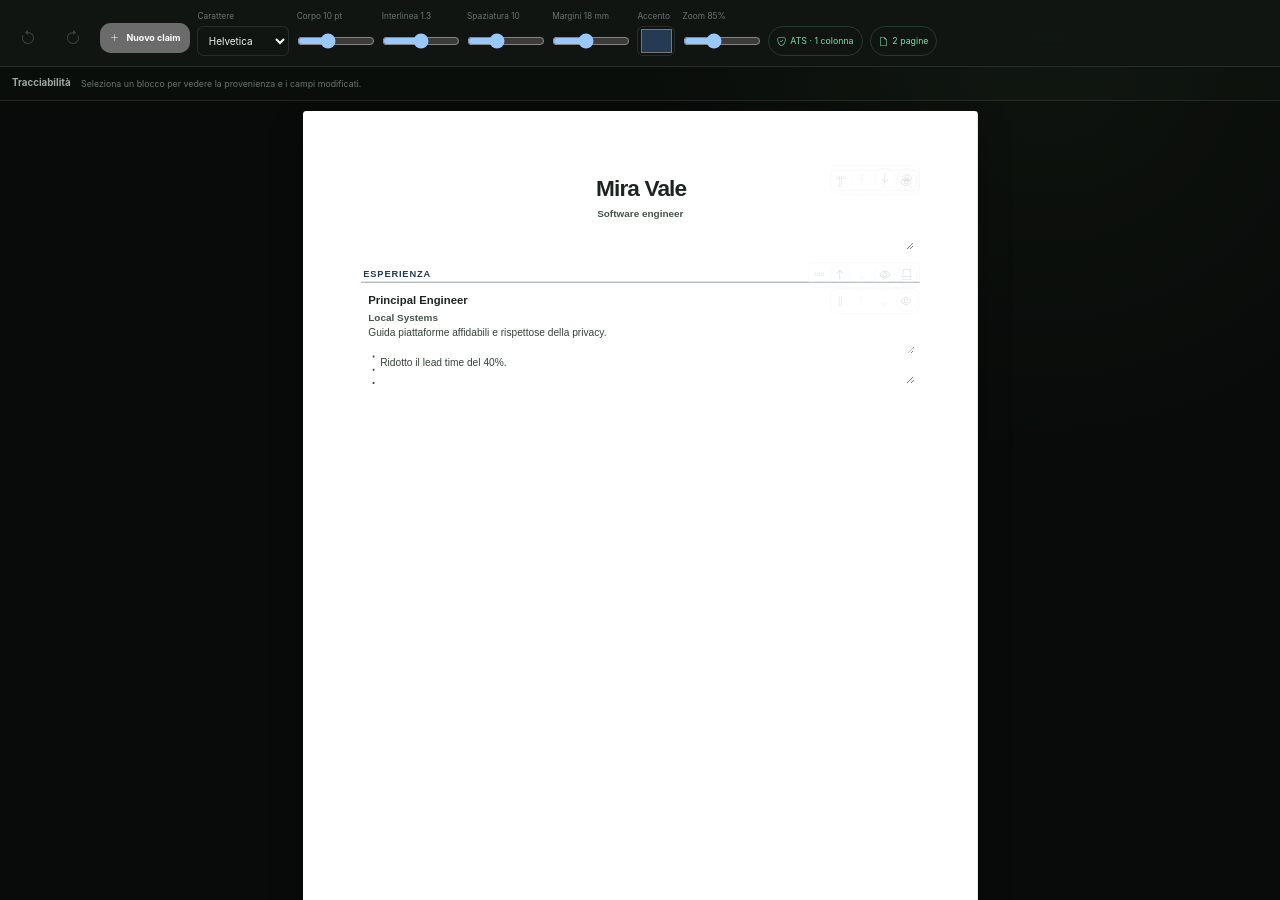
Test: ResumeCanvas › creates, warns about and promotes a manual claim
The image size is (1280, 900).
Click the button "Nuovo claim". click: [145, 38]
box: [100, 23, 190, 53]
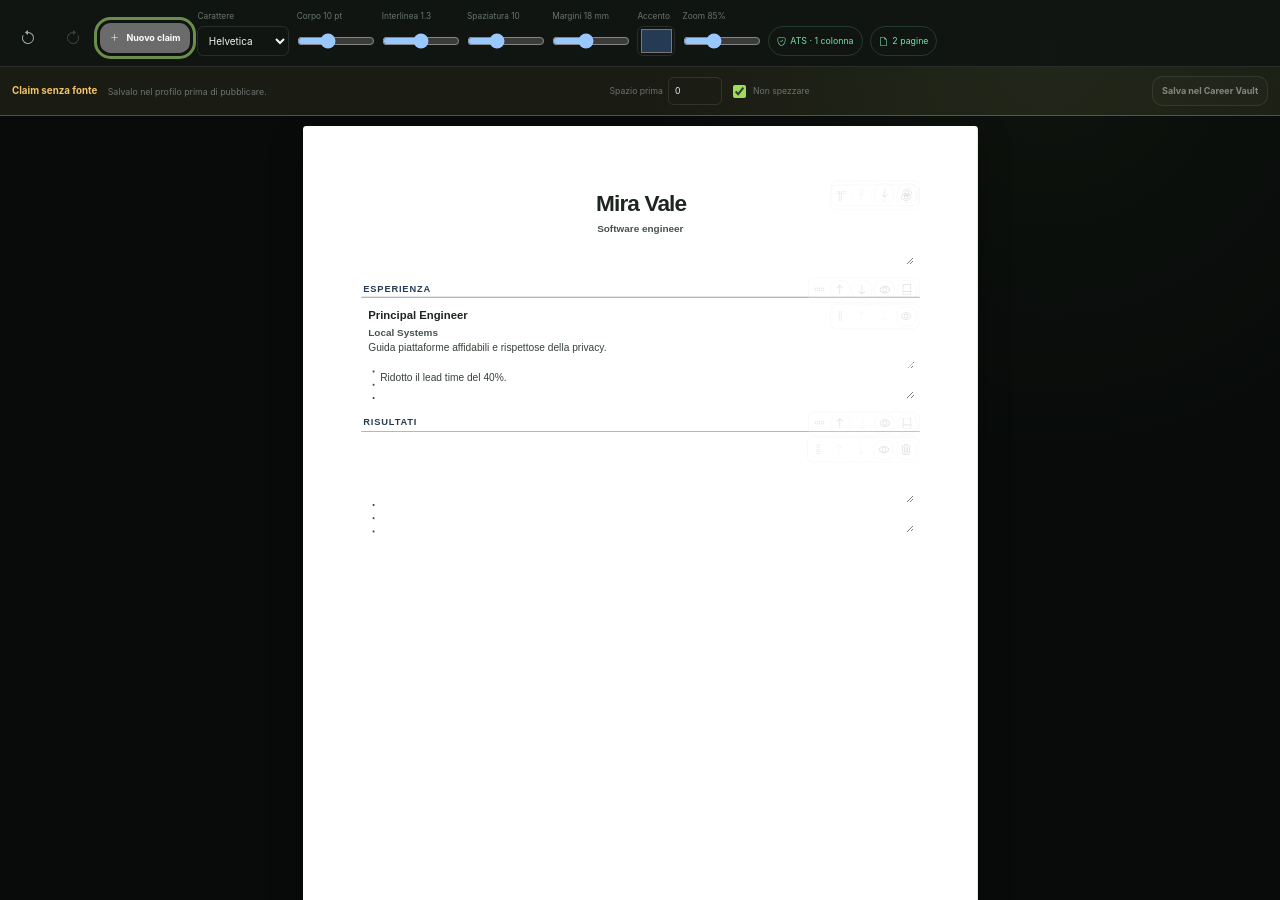
Now the text "Claim senza fonte" is shown, box [12, 84, 97, 98]
Now the button "Salva nel Career Vault" is disabled, box [1152, 76, 1268, 106]
Type "Ridotto il lavoro manuale del 30%" into the 3rd field named "Titolo blocco 1". click: [640, 450]
box: [365, 441, 914, 459]
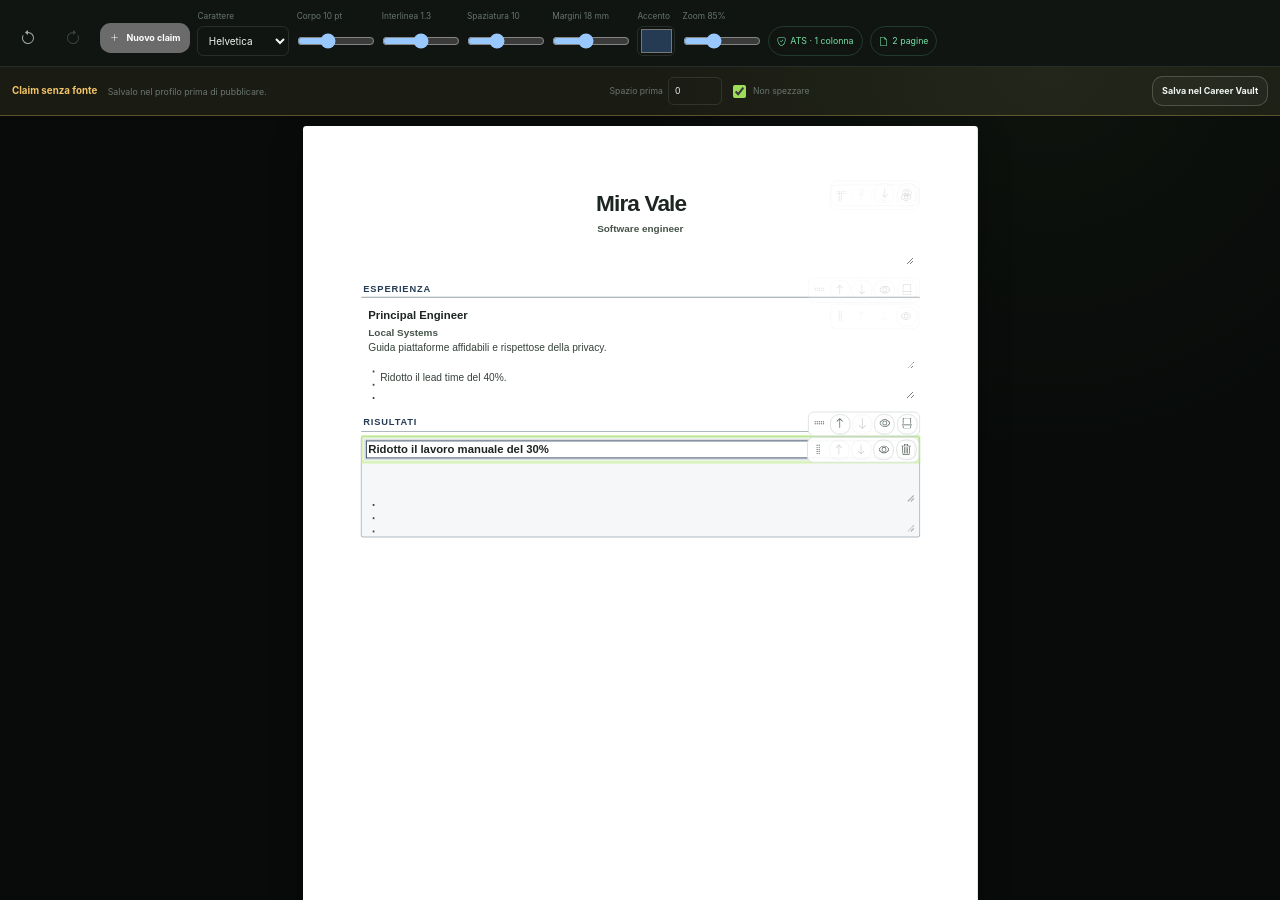
Click the button "Salva nel Career Vault". click: [1210, 91]
box: [1152, 76, 1268, 106]
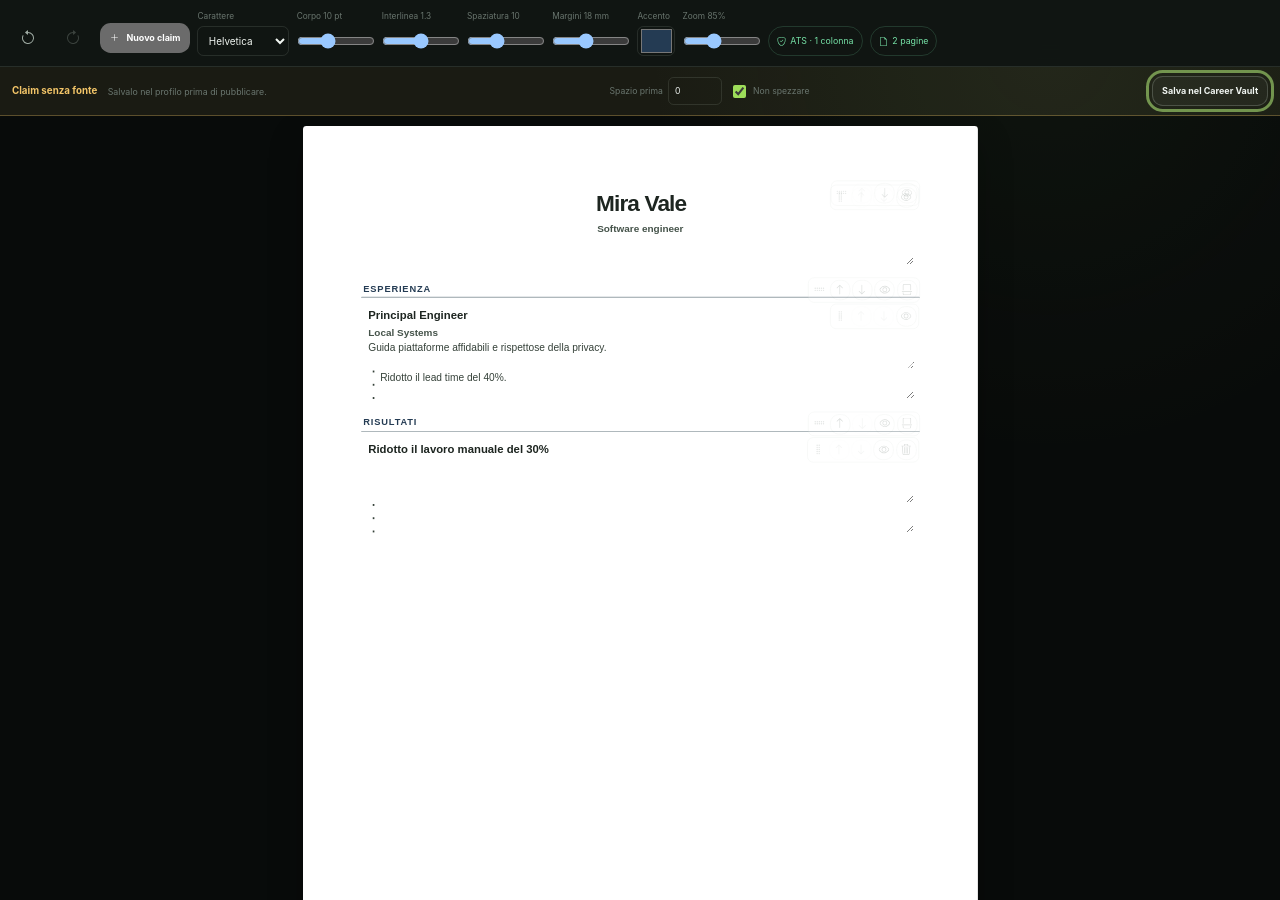
Click the button named "Rimuovi claim Ridotto il lavoro". click: [906, 451]
box: [896, 440, 916, 461]
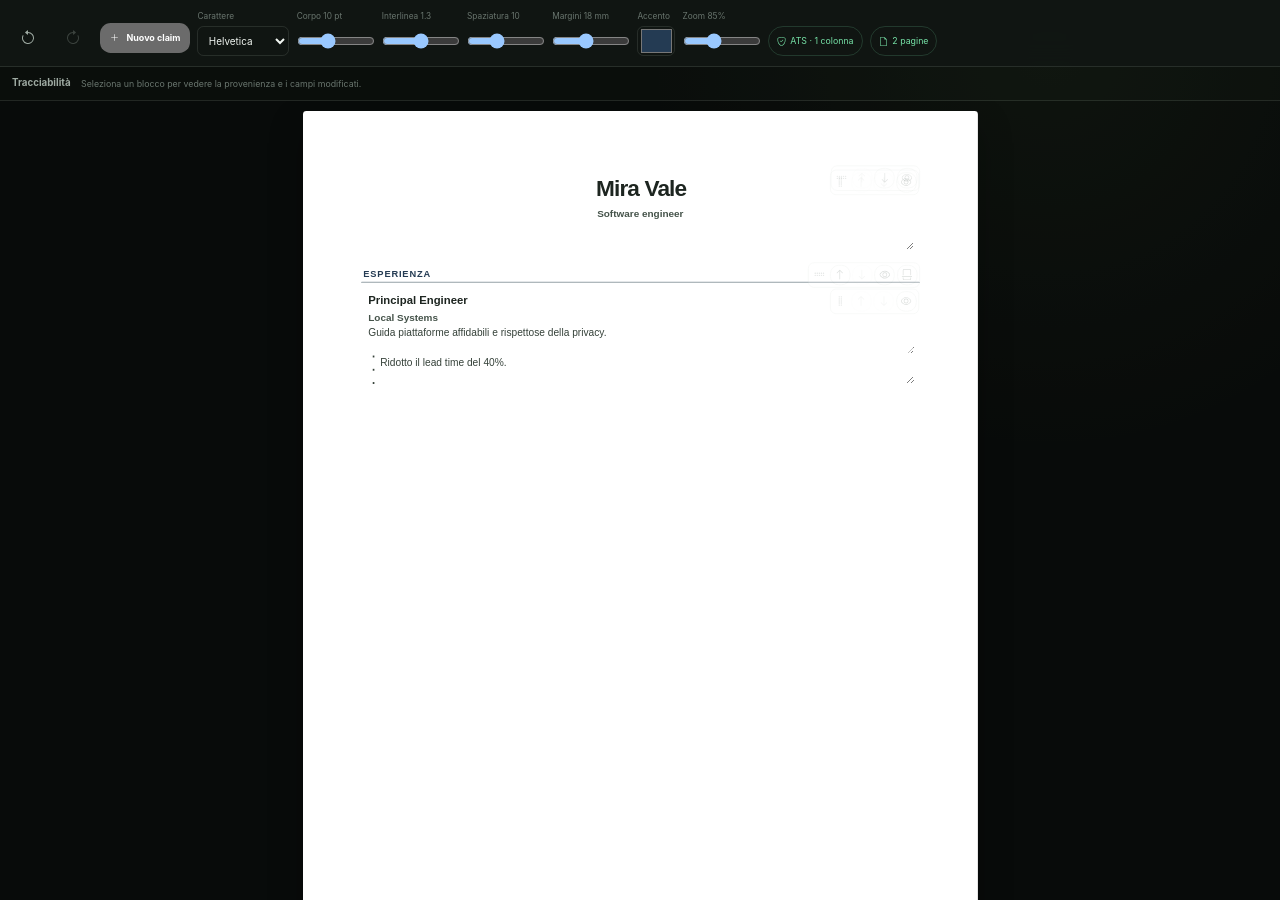
Now the text "Claim senza fonte" is gone
